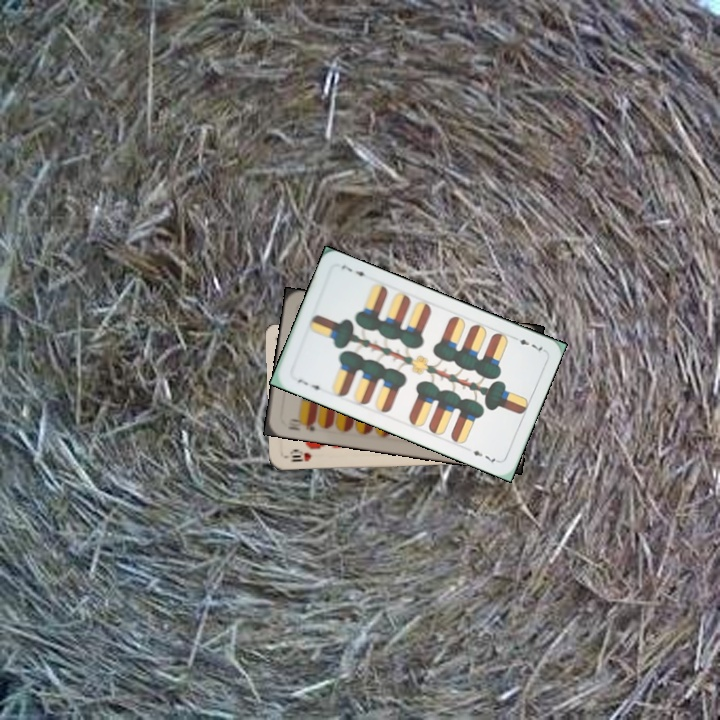E10: (284, 415, 318, 433)
E7: (508, 332, 547, 354), (293, 375, 326, 395)
H10: (282, 447, 314, 465)
